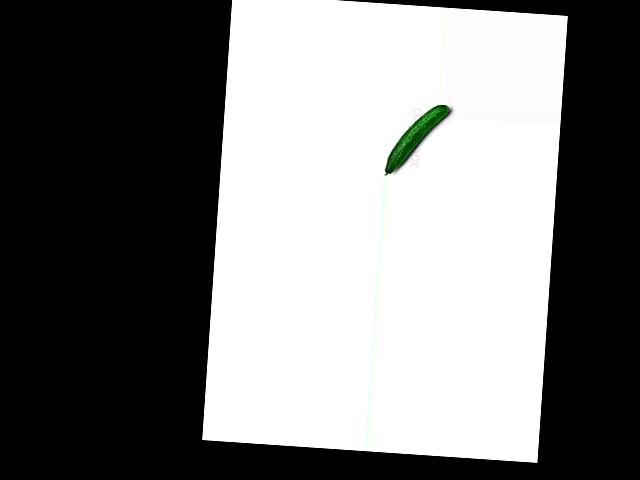cucumber: (384, 101, 450, 180)
